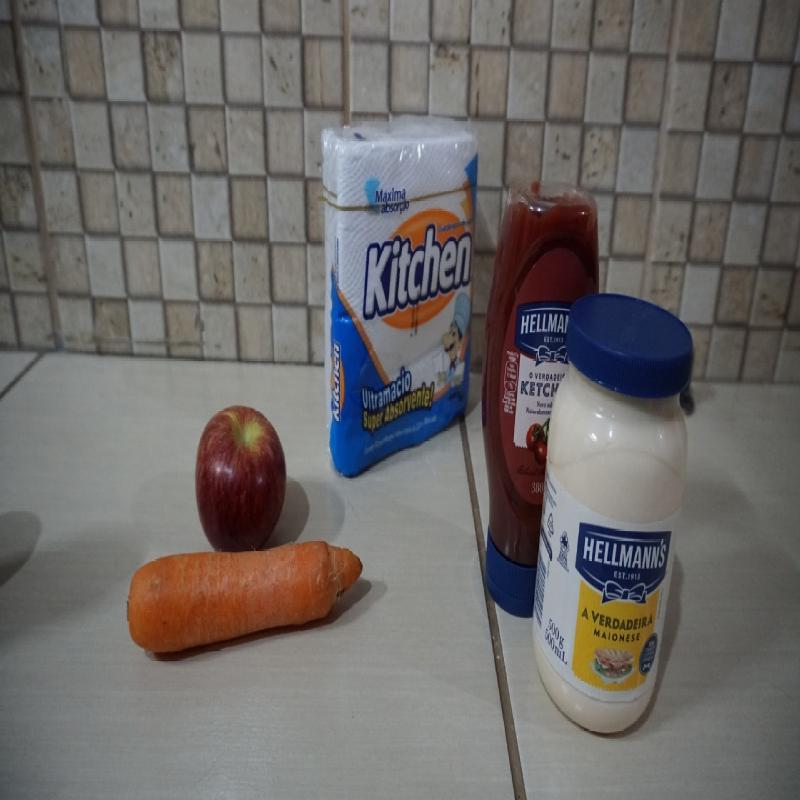Apple: (196, 406, 287, 554)
Carrot: (126, 542, 362, 654)
Ketchup: (483, 180, 599, 619)
Mayonnaise: (534, 290, 695, 738)
Napkin: (321, 117, 478, 480)
